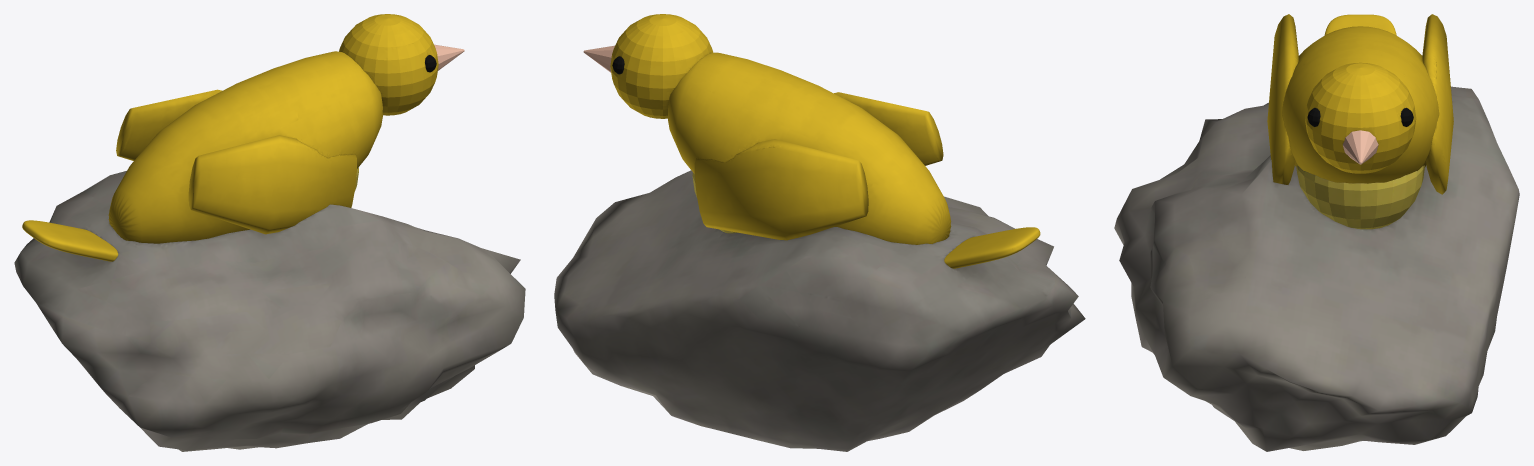
The model's file is goldfinch-rock.glb.
3 renders of one model, left to right at view 1: azimuth 30°, elevation 25°; view 2: azimuth 150°, elevation 25°; view 3: azimuth 270°, elevation 25°, orthographic. The views are drawn at different scales.
Parts seen in each view (by area): view 1: stone, feathers_primary; view 2: stone, feathers_primary; view 3: stone, feathers_primary, feathers_belly, beak.
Boxes of the visible parts, bbox=[...] form: stone: bbox=[14, 171, 525, 451]; feathers_primary: bbox=[22, 14, 438, 261]; stone: bbox=[554, 170, 1085, 451]; feathers_primary: bbox=[610, 14, 1040, 268]; stone: bbox=[1114, 86, 1519, 451]; feathers_primary: bbox=[1267, 14, 1453, 194]; feathers_belly: bbox=[1296, 165, 1424, 229]; beak: bbox=[1342, 130, 1378, 164].
Size of the model in its own units: 0.2295 by 0.1702 by 0.16.
Materials: 5 (3 with a texture image).
